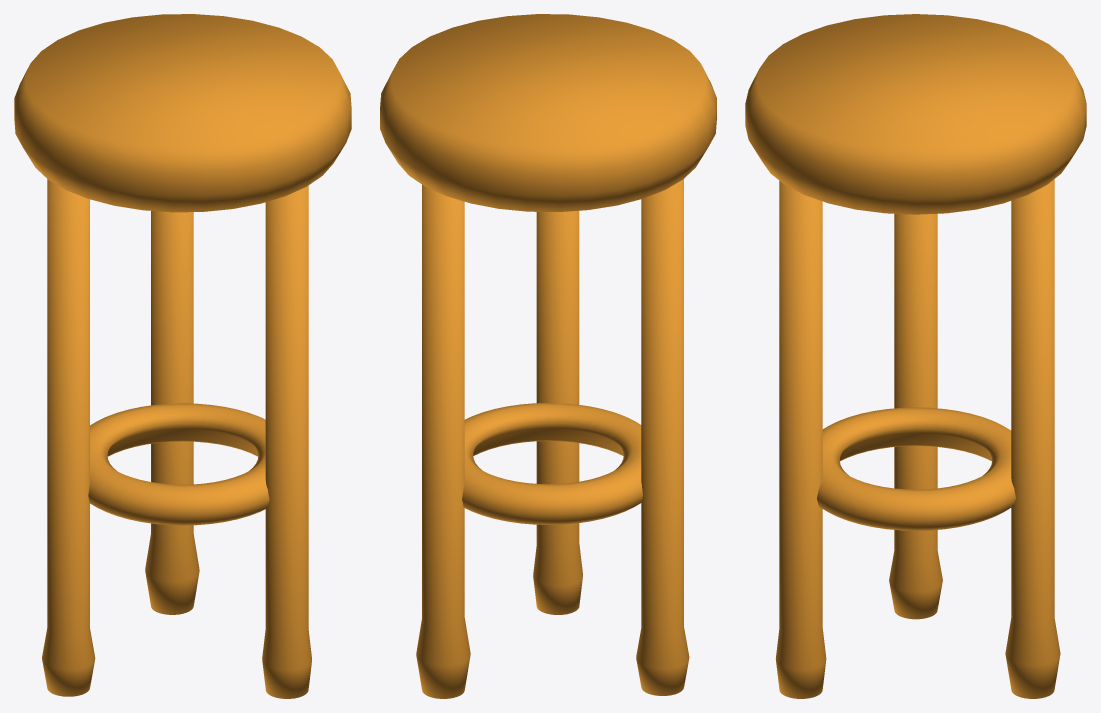
File: stool.fbx
The picture shows the model from 3 angles, left to right: view 1: azimuth 30°, elevation 25°; view 2: azimuth 150°, elevation 25°; view 3: azimuth 270°, elevation 25°; orthographic projection.
Visible parts, largest first — view 1: Cylinder; view 2: Cylinder; view 3: Cylinder.
Boxes of the visible parts, x1=… form: Cylinder: x1=14, y1=14, x2=351, y2=698; Cylinder: x1=380, y1=14, x2=716, y2=698; Cylinder: x1=745, y1=14, x2=1086, y2=698.
Size of the model in its own units: 200 by 378 by 200.
